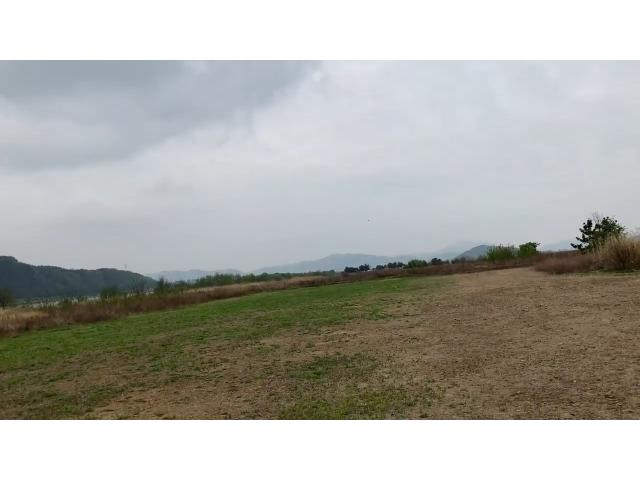Anti-Drone: (363, 215, 377, 227)
